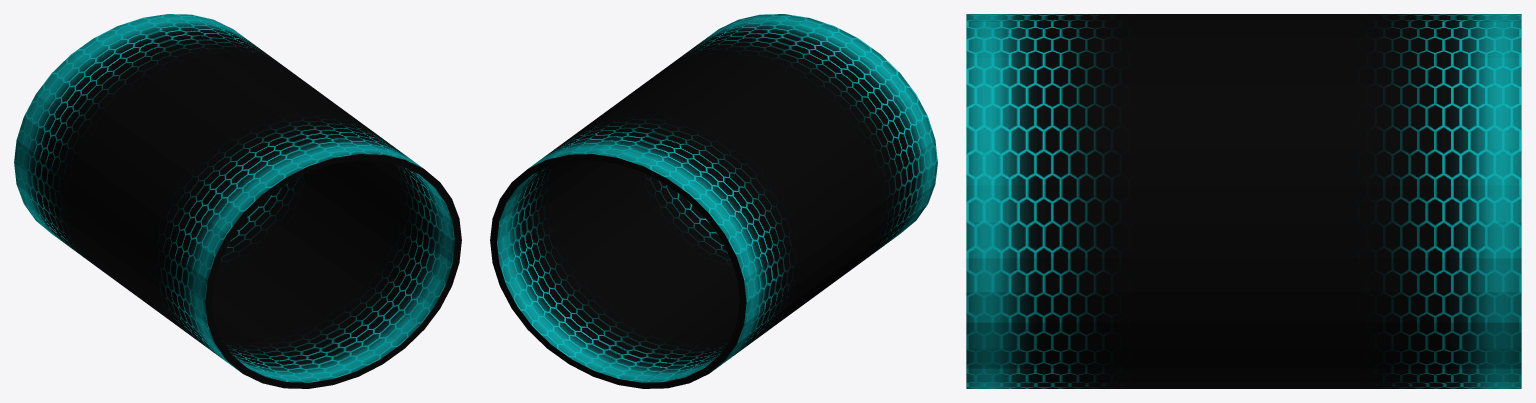
The model's file is Tunnel.fbx.
The picture shows the model from 3 angles, left to right: view 1: azimuth 30°, elevation 25°; view 2: azimuth 150°, elevation 25°; view 3: azimuth 270°, elevation 25°; orthographic projection. The views are drawn at different scales.
Parts seen in each view (by area): view 1: Cylinder; view 2: Cylinder; view 3: Cylinder.
Part boxes in pixels (x1,y1,x2,y2): Cylinder: (14,14,461,388); Cylinder: (490,14,937,388); Cylinder: (966,14,1521,388).
Size of the model in its own units: 752 by 636 by 971.
